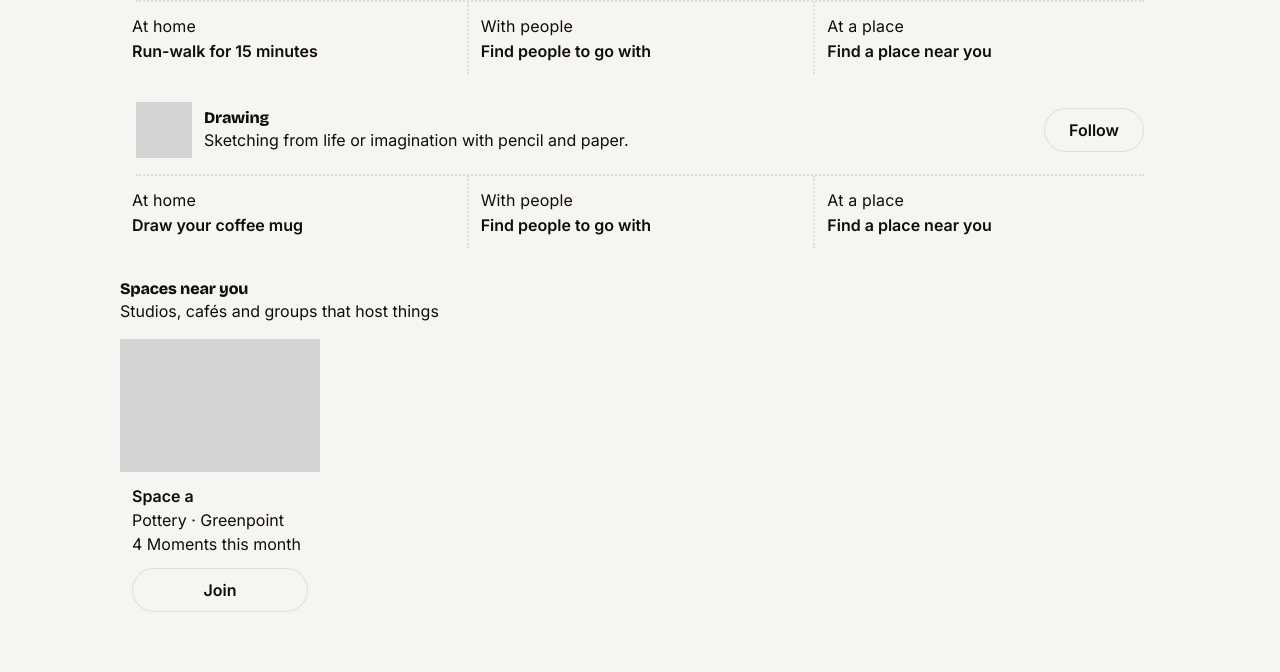
Discover signed out › opens the sign up prompt for any action and closes it with Keep looking around
(page scrolled)
Click the button "Join" at (220, 590), box x1=132 y1=568 x2=308 y2=612
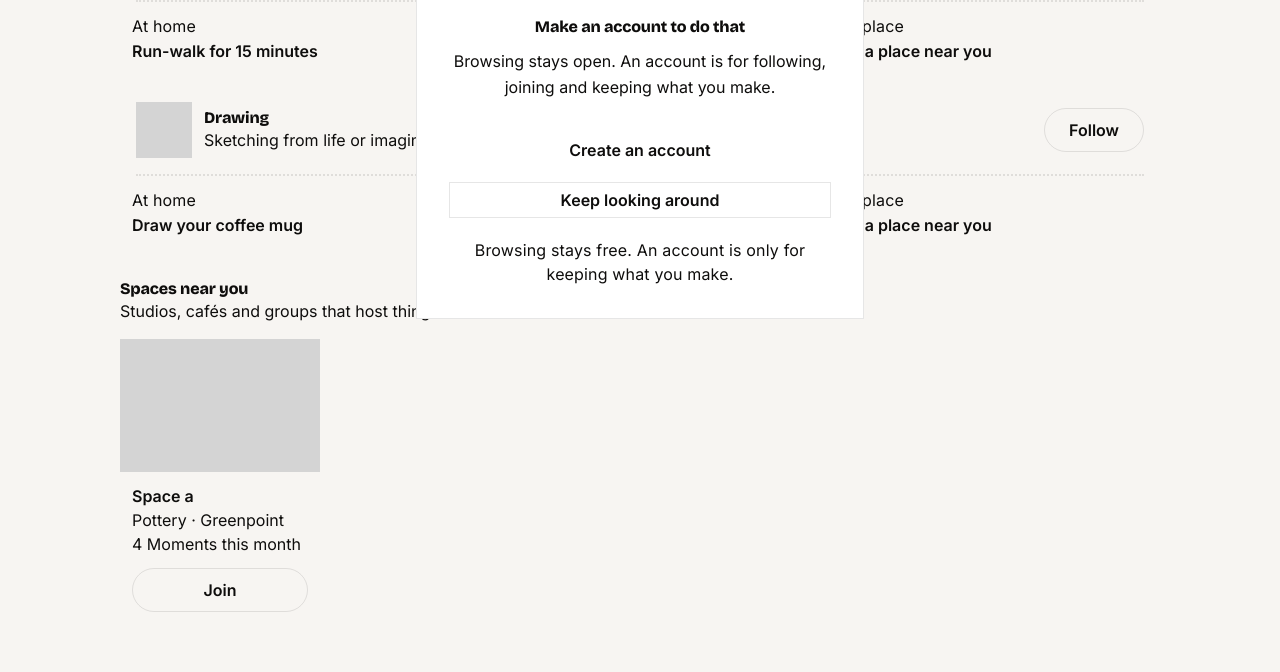
Result: the link "Create an account" is shown at x1=449 y1=128 x2=831 y2=172
Click the button "Keep looking around" at (640, 200), box x1=449 y1=182 x2=831 y2=218
(page scrolled)
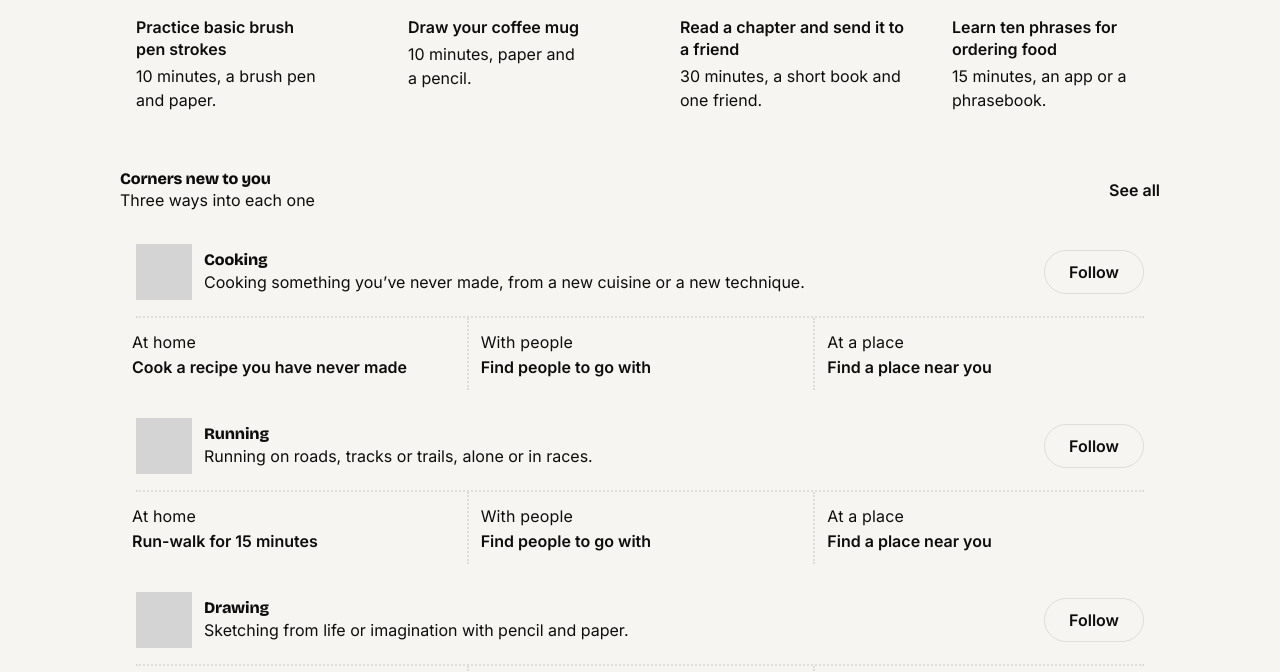
Result: the button "Create an account" is gone
Click the 1st button "Follow" at (1094, 272), box x1=1044 y1=250 x2=1144 y2=294
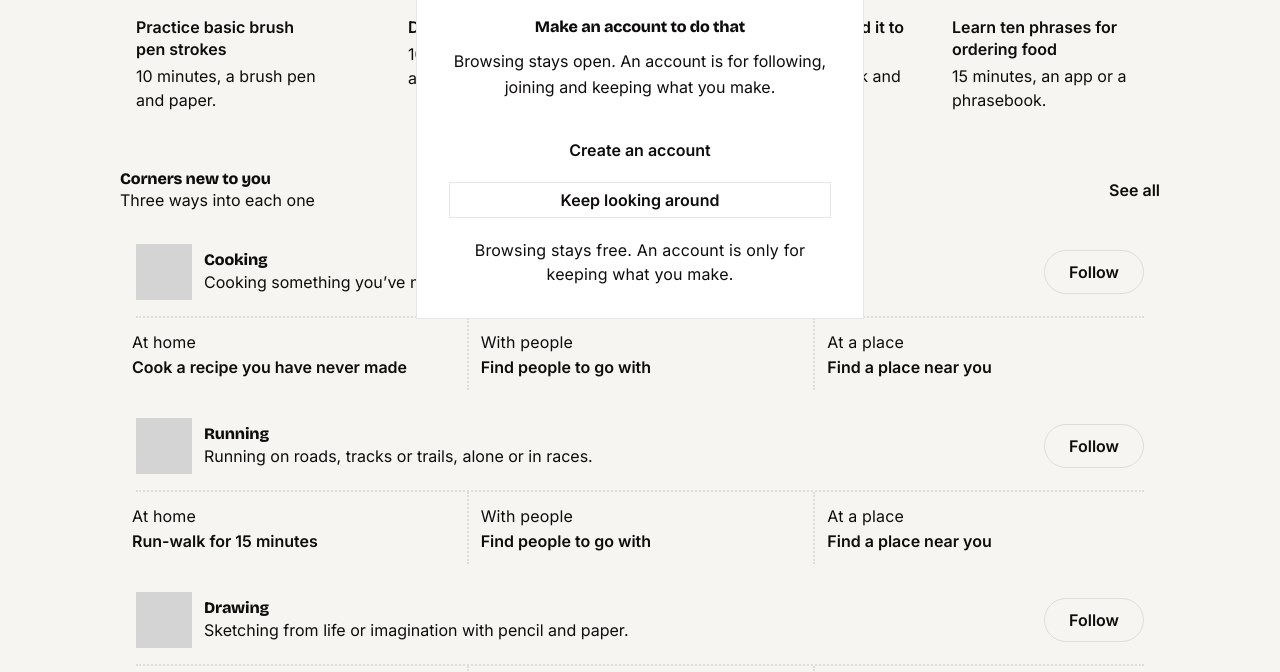
Result: the link "Create an account" is shown at x1=449 y1=128 x2=831 y2=172
